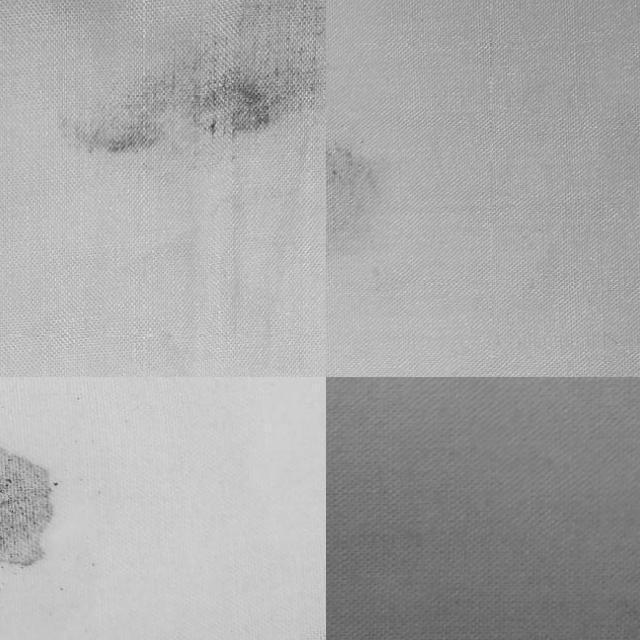Hole: (37, 0, 326, 172), (0, 377, 87, 616), (326, 129, 395, 294)
